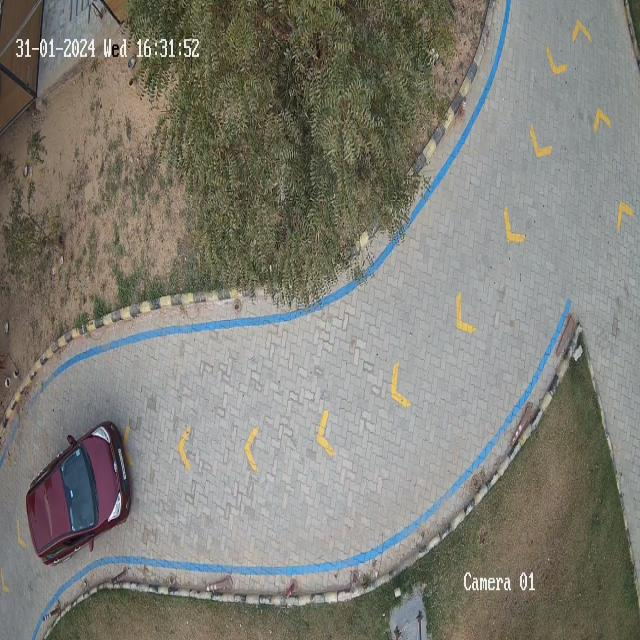car: (22, 419, 136, 572)
